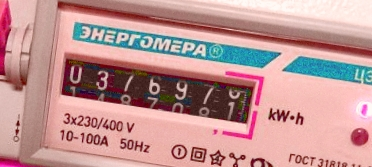0: (66, 61, 84, 85)
1: (223, 98, 235, 121)
3: (93, 68, 109, 90)
6: (145, 71, 163, 96)
7: (119, 68, 136, 93), (198, 80, 215, 104)
9: (171, 77, 188, 100)
screen: (45, 42, 267, 143)
